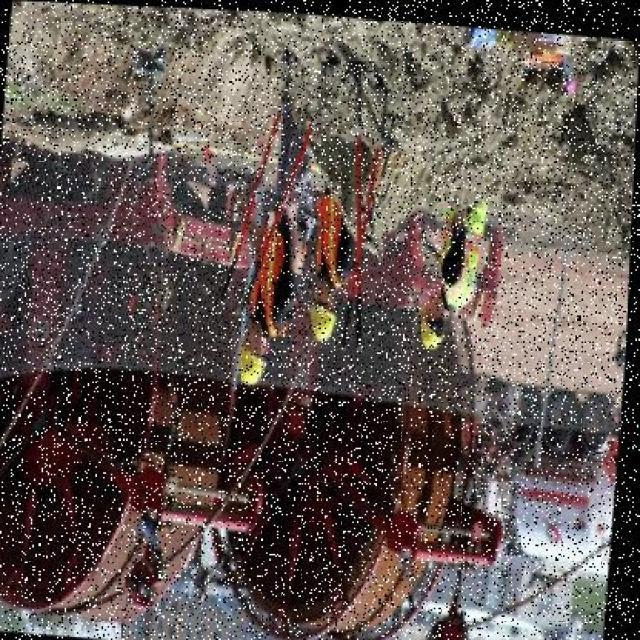helmet: (234, 331, 273, 389), (303, 287, 342, 345), (417, 294, 451, 354)
vest: (433, 194, 489, 308), (308, 188, 358, 290), (248, 215, 288, 325)
